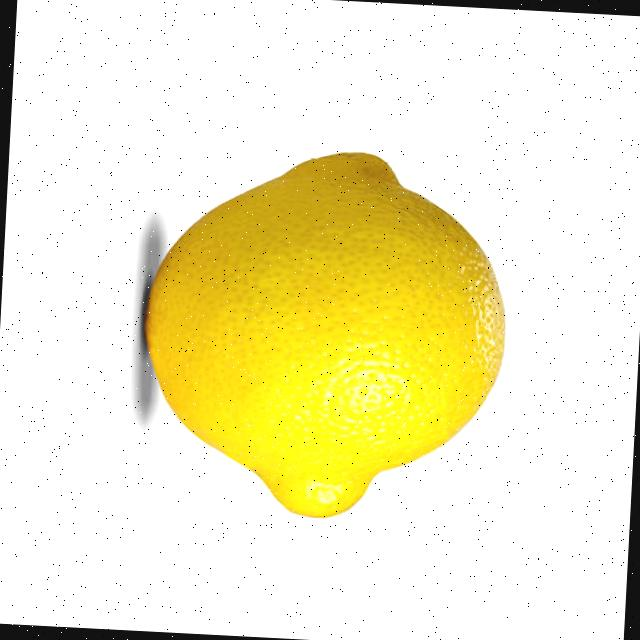Ripe: (130, 138, 523, 539)
